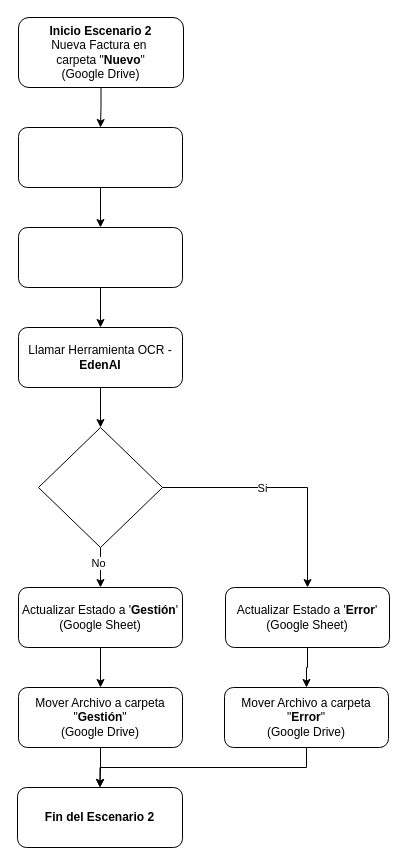
Image size: 407x865. Some labels were removed from this diagram. Here are the shapes that lost their labels. From the top down, the centre of each, then its label:
[100,157]: Actualizar Estado a ' OCR ' (Google Sheet)
[100,257]: Mover Archivo a carpeta " OCR " (Google Drive)
[100,487]: ¿Error en OCR ?
